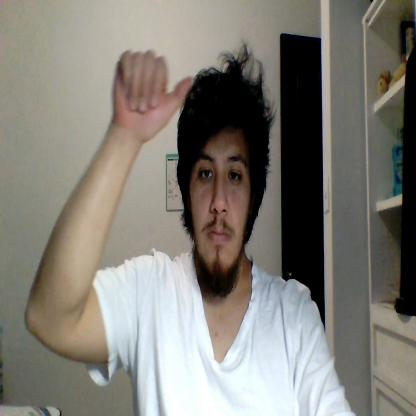A: (112, 50, 192, 143)
